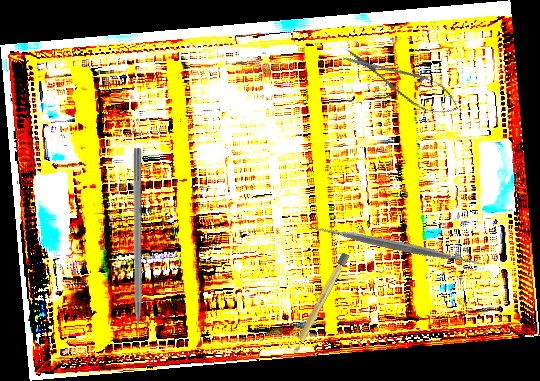Micro Scissor: (337, 38, 466, 125)
Pusher: (131, 148, 142, 355)
Scalpel Handle: (289, 252, 350, 356)
Spatula Surgical: (305, 154, 486, 336)
